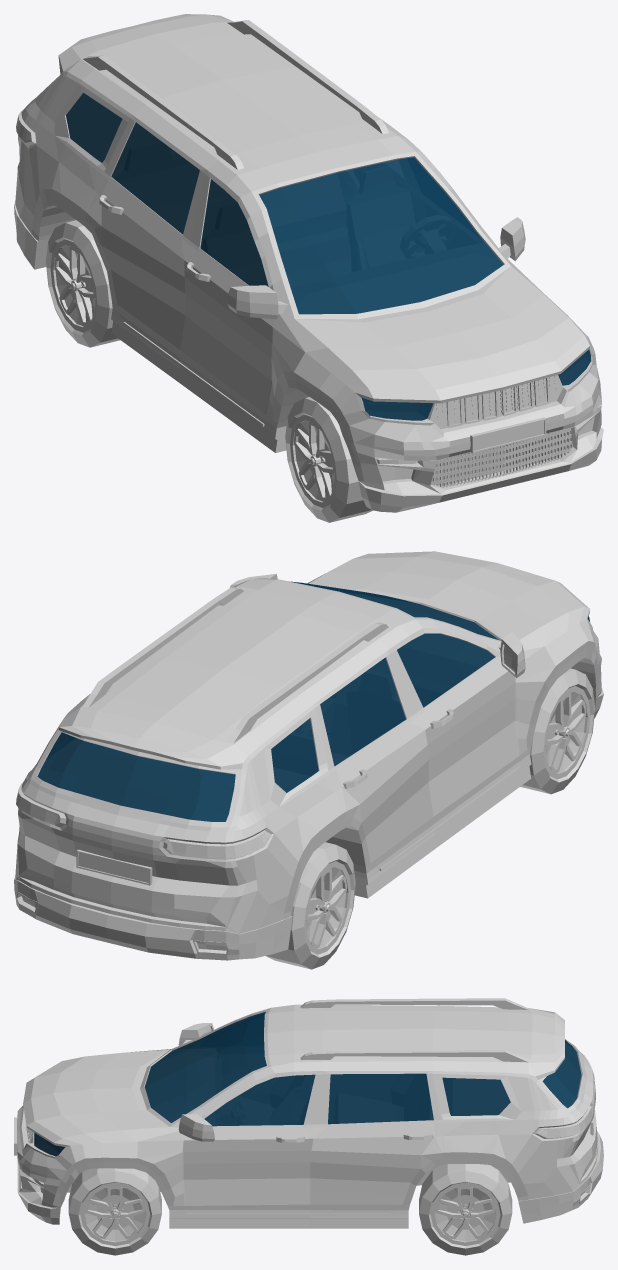
File: suv_seperate_wheels.fbx
The picture shows the model from 3 angles, top to bottom: view 1: azimuth 30°, elevation 25°; view 2: azimuth 150°, elevation 25°; view 3: azimuth 270°, elevation 25°; orthographic projection. The views are drawn at different scales.
Parts seen in each view (by area): view 1: suv_car, suv_glass, suv_wheel.002, suv_wheel.003; view 2: suv_car, suv_glass, suv_wheel.003, suv_wheel.002; view 3: suv_car, suv_glass, suv_wheel.001, suv_wheel.
Boxes of the visible parts, x1,y1,x2,y2 form: suv_car: [14, 14, 603, 512]; suv_glass: [66, 93, 590, 420]; suv_wheel.002: [285, 397, 372, 522]; suv_wheel.003: [46, 220, 120, 347]; suv_car: [14, 551, 603, 960]; suv_glass: [37, 581, 589, 821]; suv_wheel.003: [266, 842, 355, 969]; suv_wheel.002: [520, 668, 595, 794]; suv_car: [14, 998, 603, 1228]; suv_glass: [34, 1012, 581, 1156]; suv_wheel.001: [419, 1164, 512, 1255]; suv_wheel: [68, 1168, 161, 1255].
Size of the model in its own units: 310 by 260 by 747.
